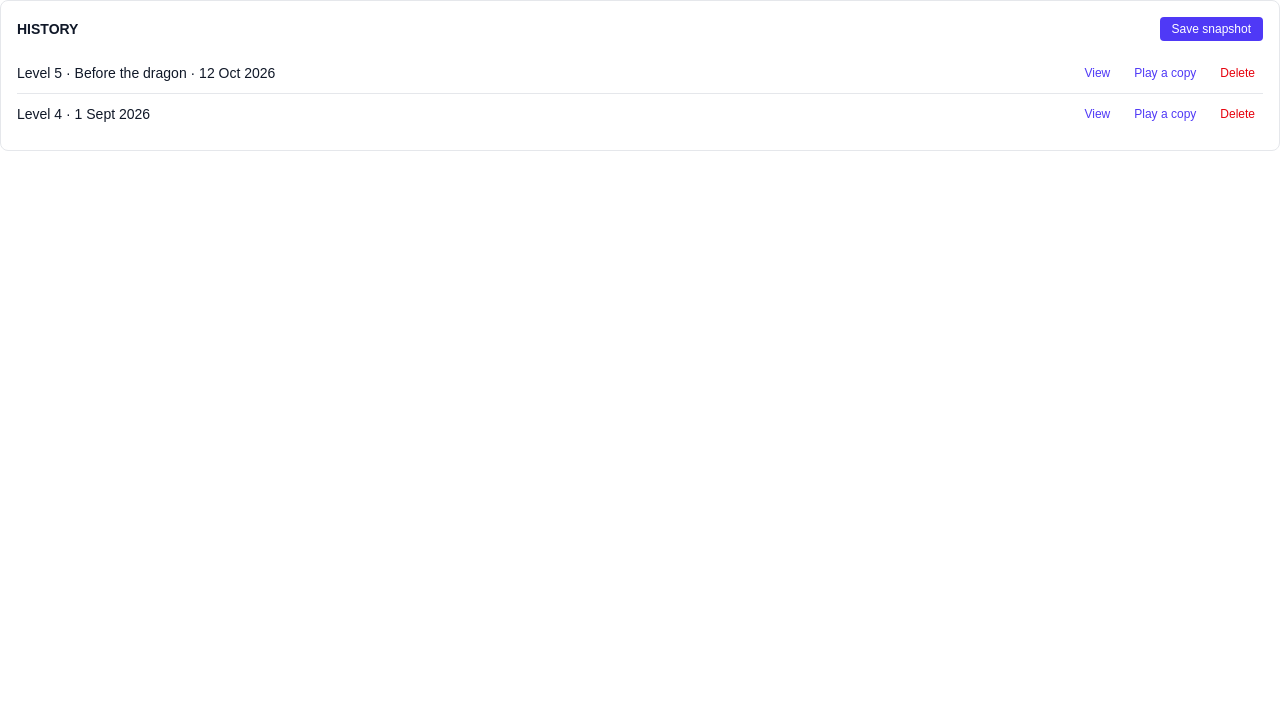
CharacterHistorySection (VEG-644) › delete snapshot › confirms, sends the DELETE, toasts and drops the row after the refetch
Expected: the text "Level 5 · Before the dragon · 12 Oct 2026" is shown, [17, 63, 275, 83]
Click the button with aria-label "Delete snapshot Level 5 · Before the dragon · 12 Oct 2026".
click(1238, 73)  # box [1212, 61, 1263, 85]
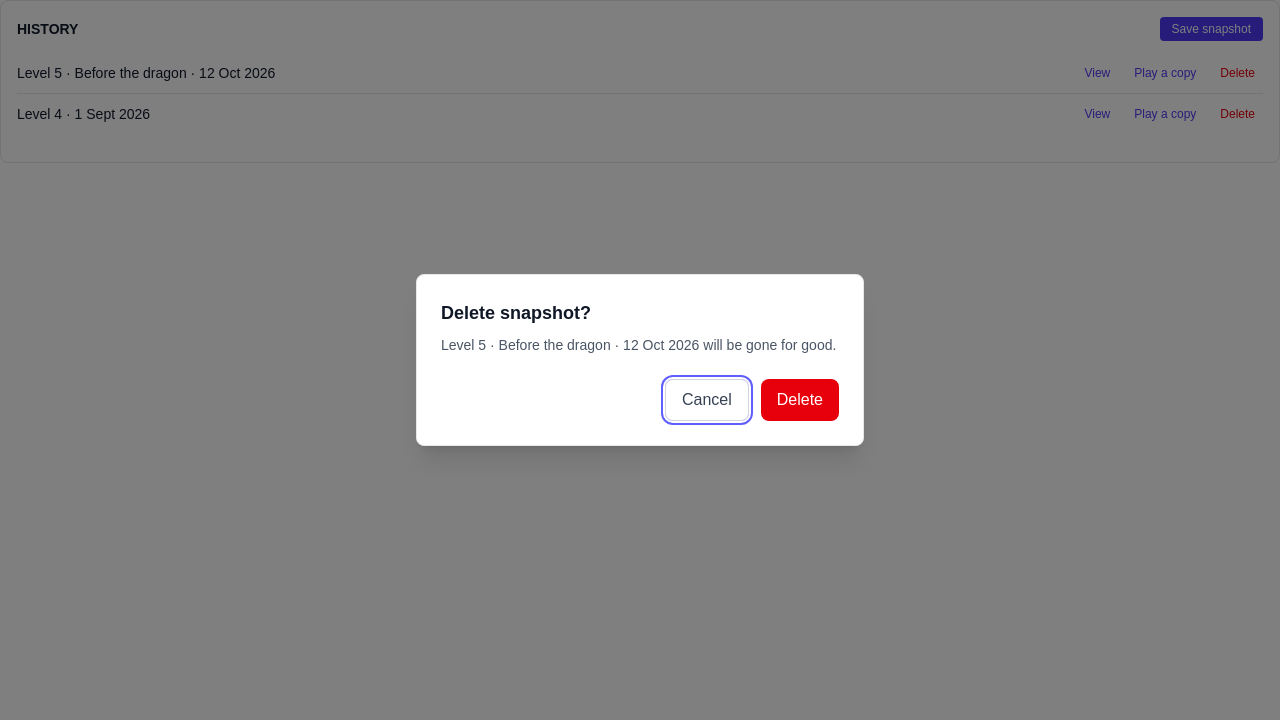
Click the button "Delete".
click(800, 400)  # box [761, 379, 839, 421]
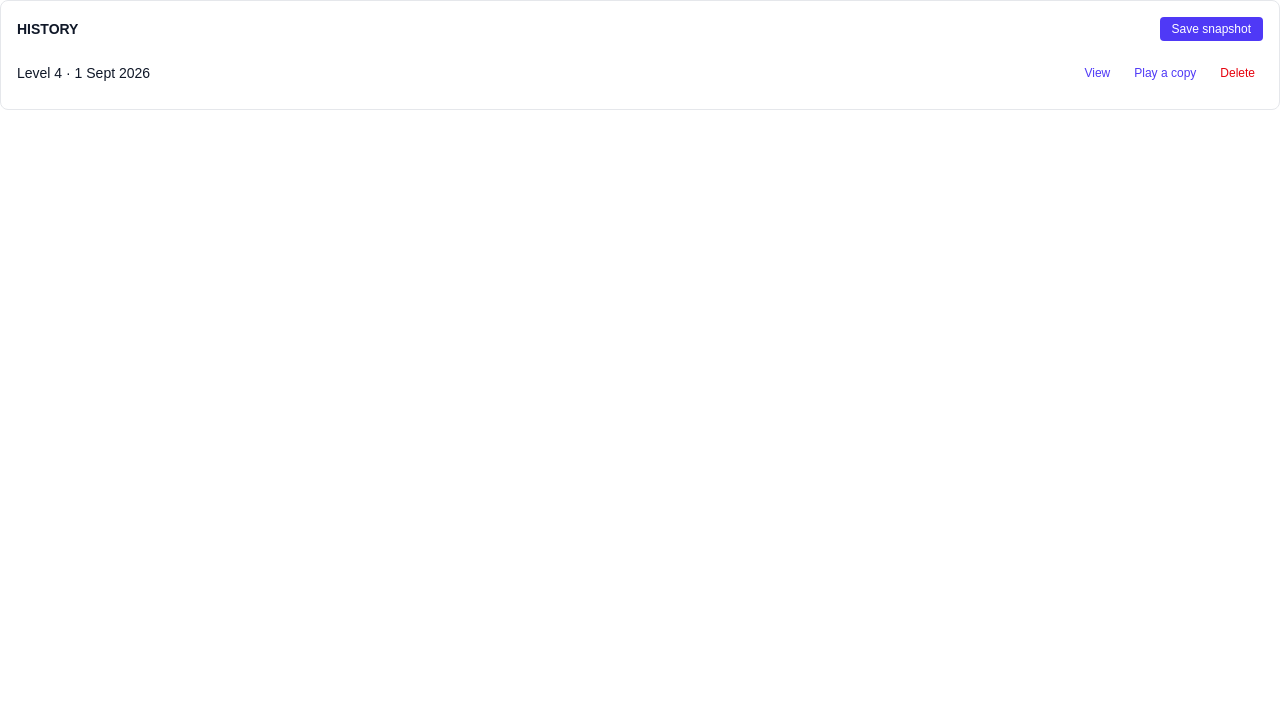
Expected: the text "Level 5 · Before the dragon · 12 Oct 2026" is gone
